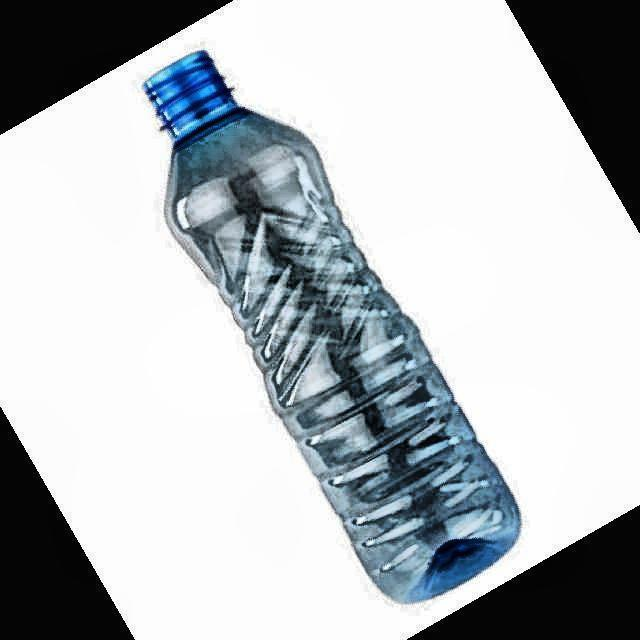plastic: (145, 51, 519, 602)
